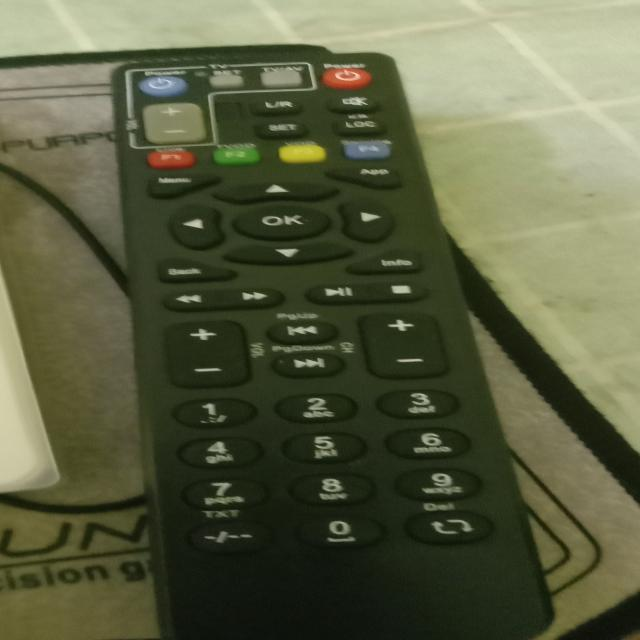remote: (118, 46, 554, 637)
